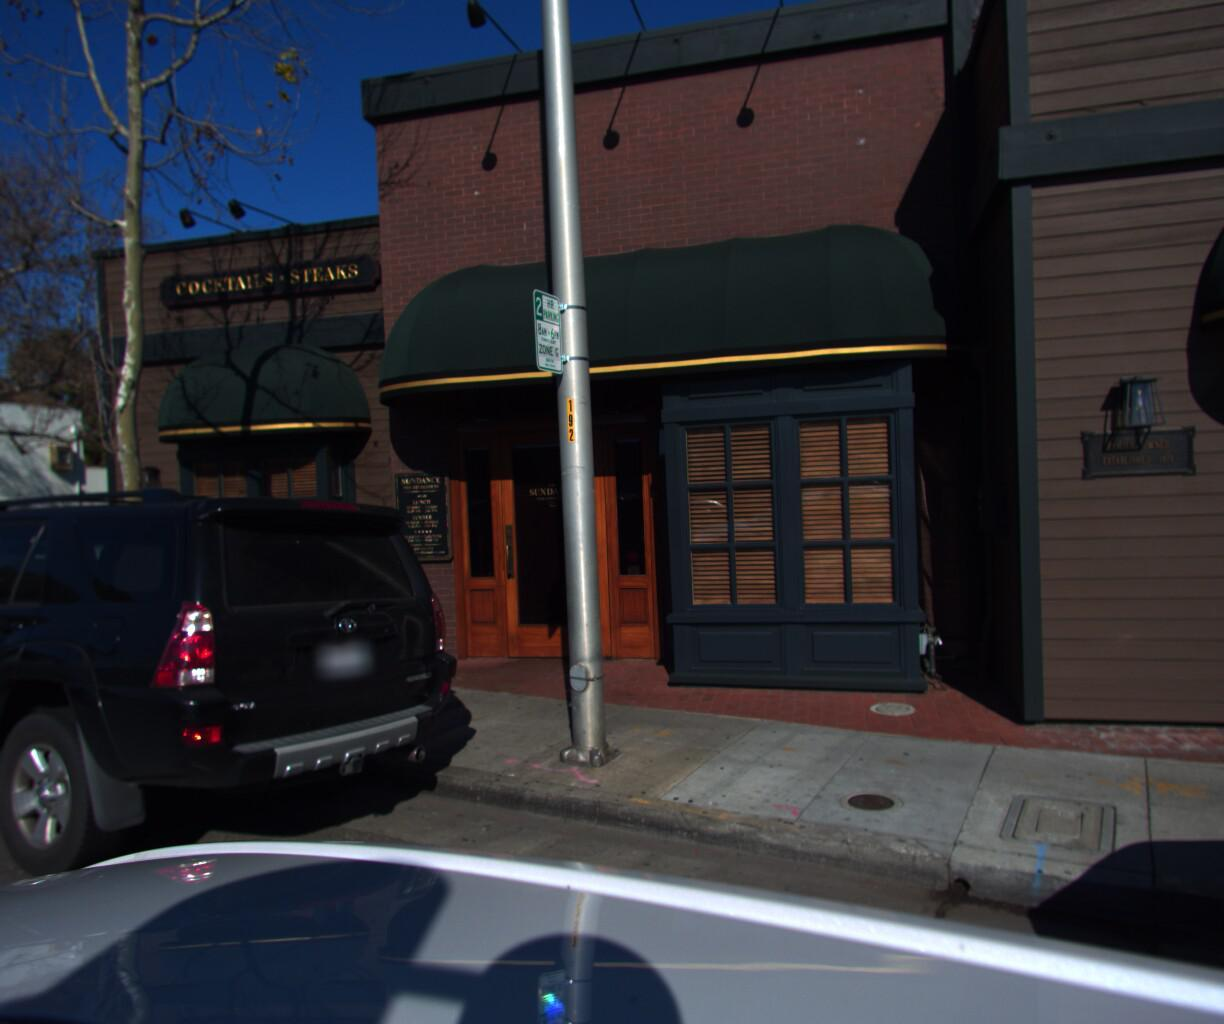car: (0, 470, 497, 979), (12, 522, 171, 601), (0, 527, 117, 597)
